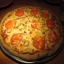pizza: (1, 5, 58, 58)
